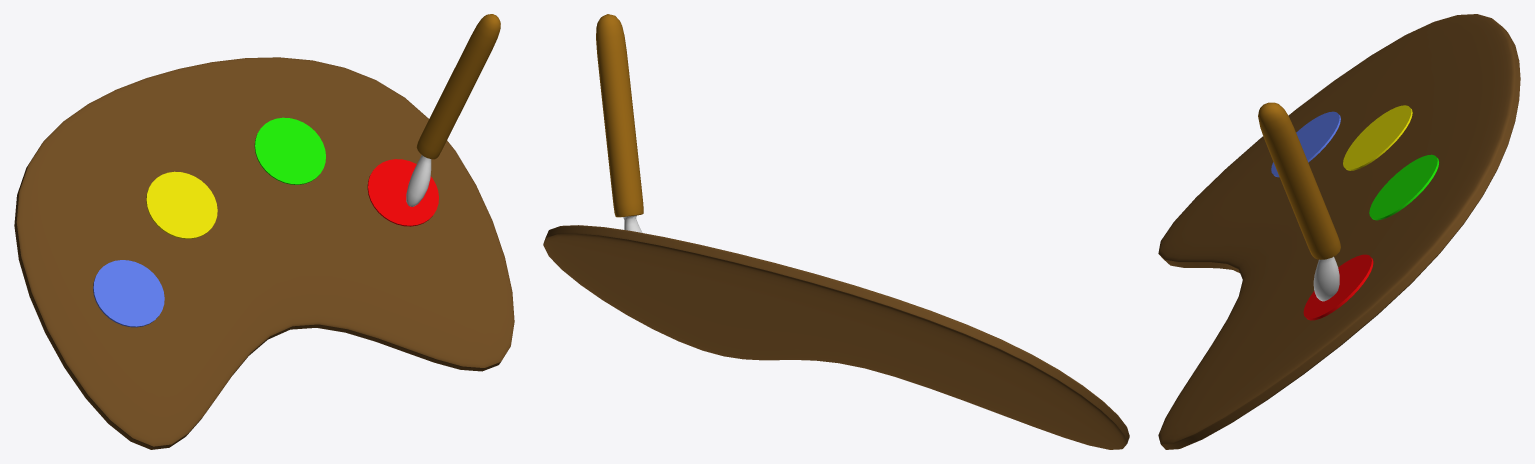
Rendered from art.glb.
3 views of the same model, side by side, from view 1: azimuth 30°, elevation 25°; view 2: azimuth 150°, elevation 25°; view 3: azimuth 270°, elevation 25° (orthographic). The views are drawn at different scales.
Visible parts, largest first — view 1: Cube, Cube.001, Circle, Circle.001, Circle.003, Circle.002; view 2: Cube, Cube.001; view 3: Cube, Cube.001, Circle.003, Circle.001, Circle.002, Circle.
Part boxes in pixels (x1,y1,x2,y2): Cube: (14, 57, 514, 449); Cube.001: (406, 14, 500, 206); Circle: (93, 260, 164, 327); Circle.001: (146, 171, 217, 238); Circle.003: (254, 117, 325, 184); Circle.002: (367, 159, 438, 226); Cube: (543, 225, 1129, 449); Cube.001: (596, 14, 643, 232); Cube: (1158, 14, 1520, 449); Cube.001: (1258, 102, 1340, 301); Circle.003: (1369, 154, 1438, 220); Circle.001: (1343, 105, 1412, 170); Circle.002: (1303, 254, 1373, 320); Circle: (1271, 111, 1340, 177).
Size of the model in its own units: 1.7 by 1.13 by 1.
